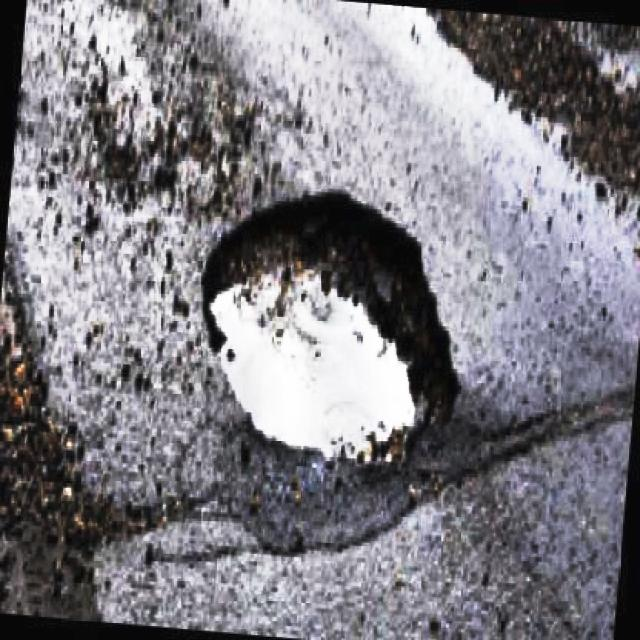pothole: (203, 180, 443, 471), (420, 11, 640, 192), (0, 311, 111, 618)
